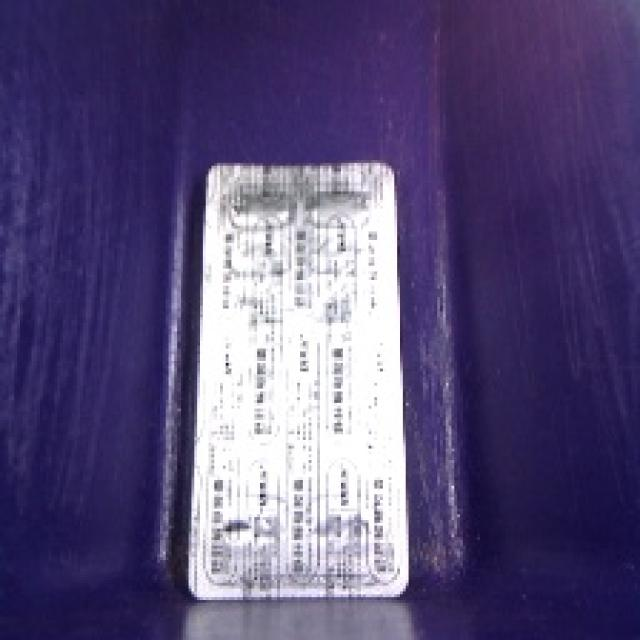med_plate: (169, 142, 425, 619)
